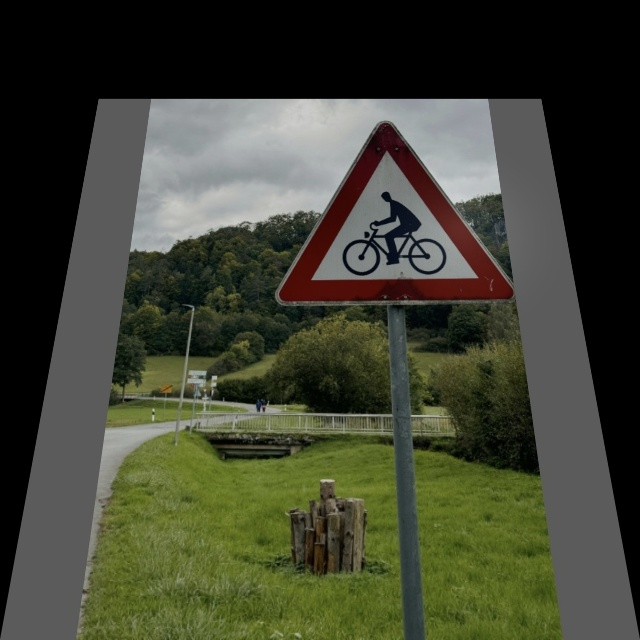Cycle_Crossing: (274, 121, 508, 302)
